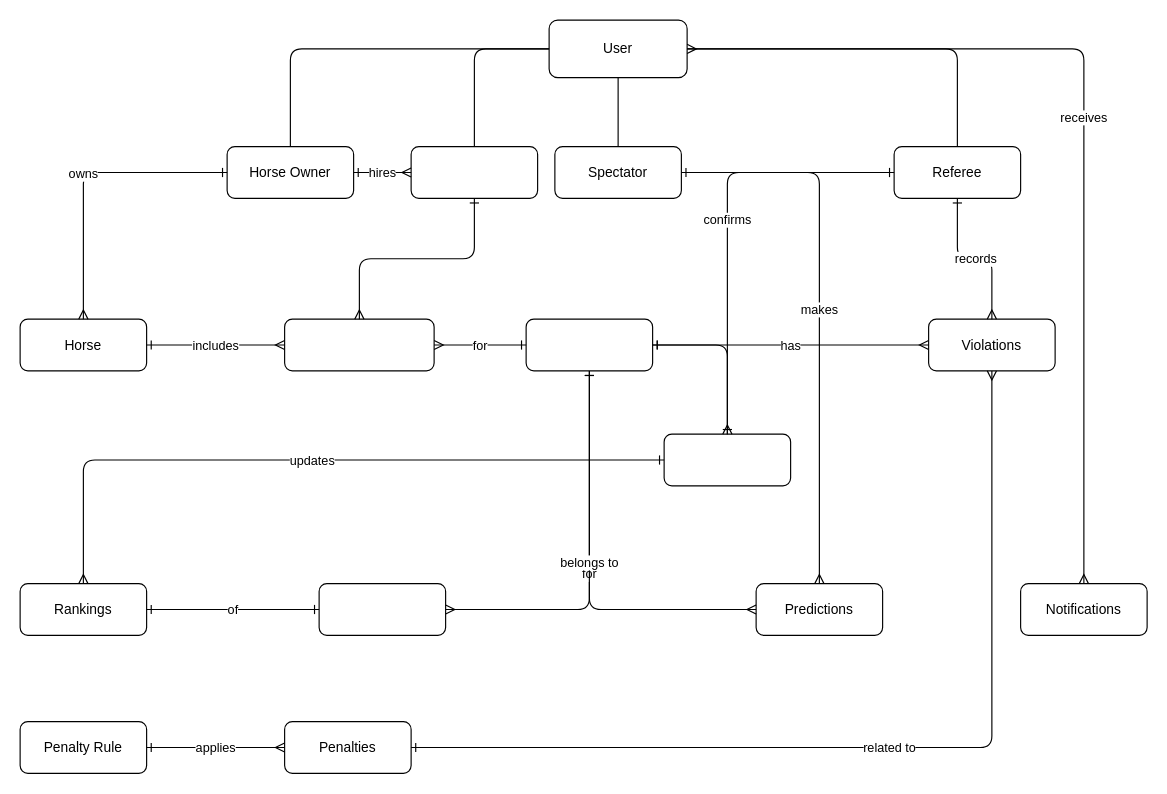
Image size: 1167x794. Some labels were removed from this diagram. The shapes that lost their labels are listed below. From the top down, each one's box as (x1, y1, x2, y2) in pixels, then its label:
(410, 145, 538, 198): Jockey
(283, 318, 434, 371): Race Registration
(525, 318, 653, 371): Race
(663, 433, 791, 486): Race Result
(318, 582, 446, 635): Tournament
